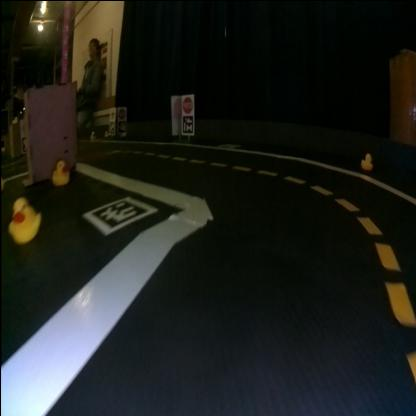Duckie: (8, 197, 40, 242), (52, 158, 70, 184), (361, 152, 372, 168), (12, 114, 18, 122), (89, 130, 95, 137), (104, 128, 109, 135)
Intersection sign: (110, 107, 114, 116)
QR code: (85, 195, 157, 232), (183, 114, 193, 132), (118, 120, 126, 130), (108, 121, 113, 132)
Stop sign: (182, 94, 193, 112), (118, 107, 126, 117)
